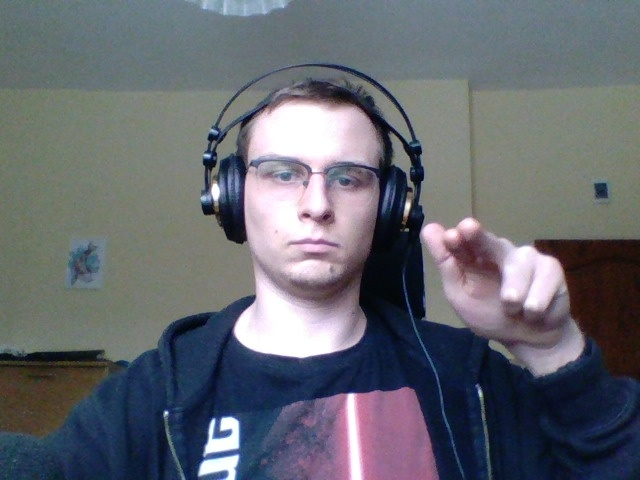no: (421, 204, 584, 340)
